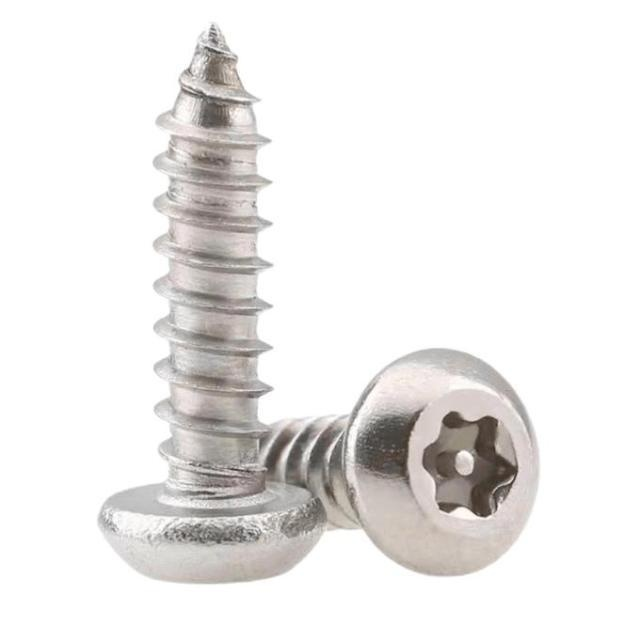torx: (339, 347, 544, 577)
